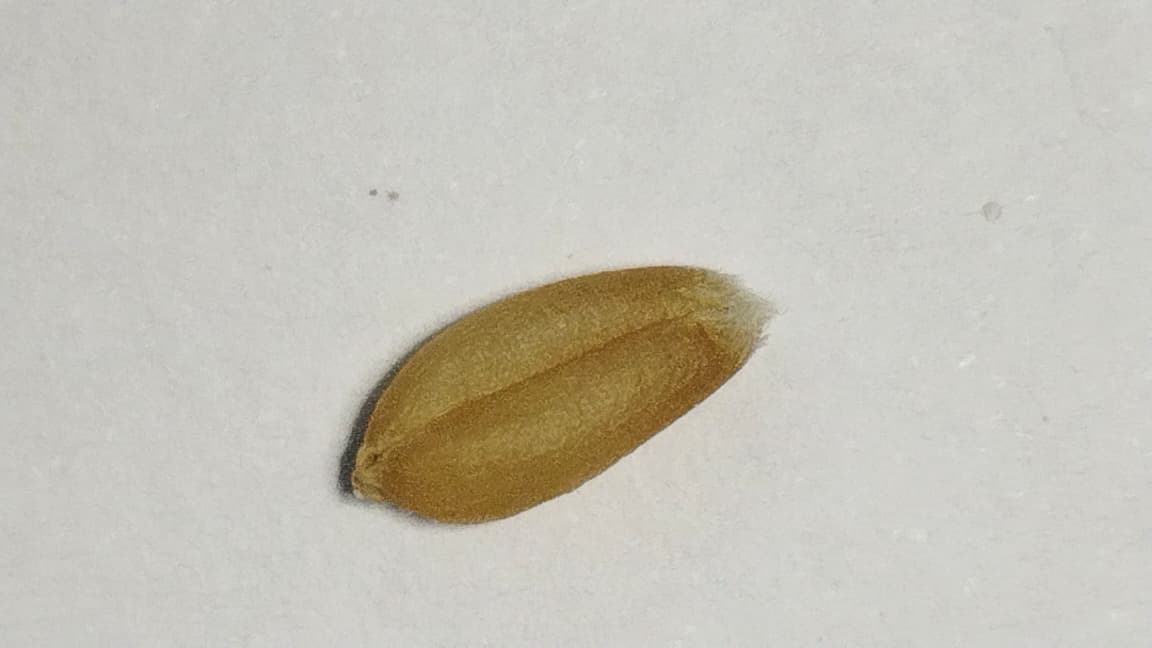healthy: (352, 266, 758, 523)
